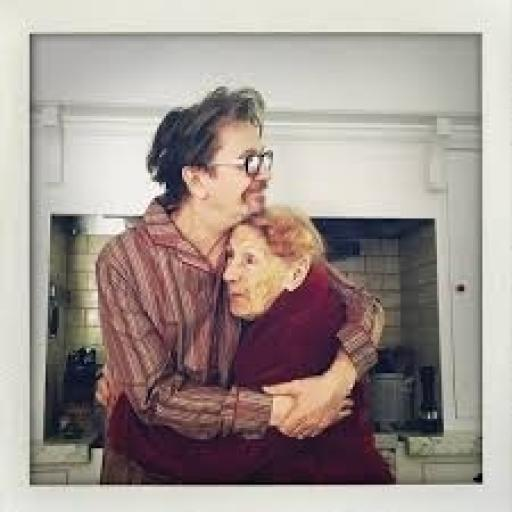hugging: (91, 82, 394, 485)
